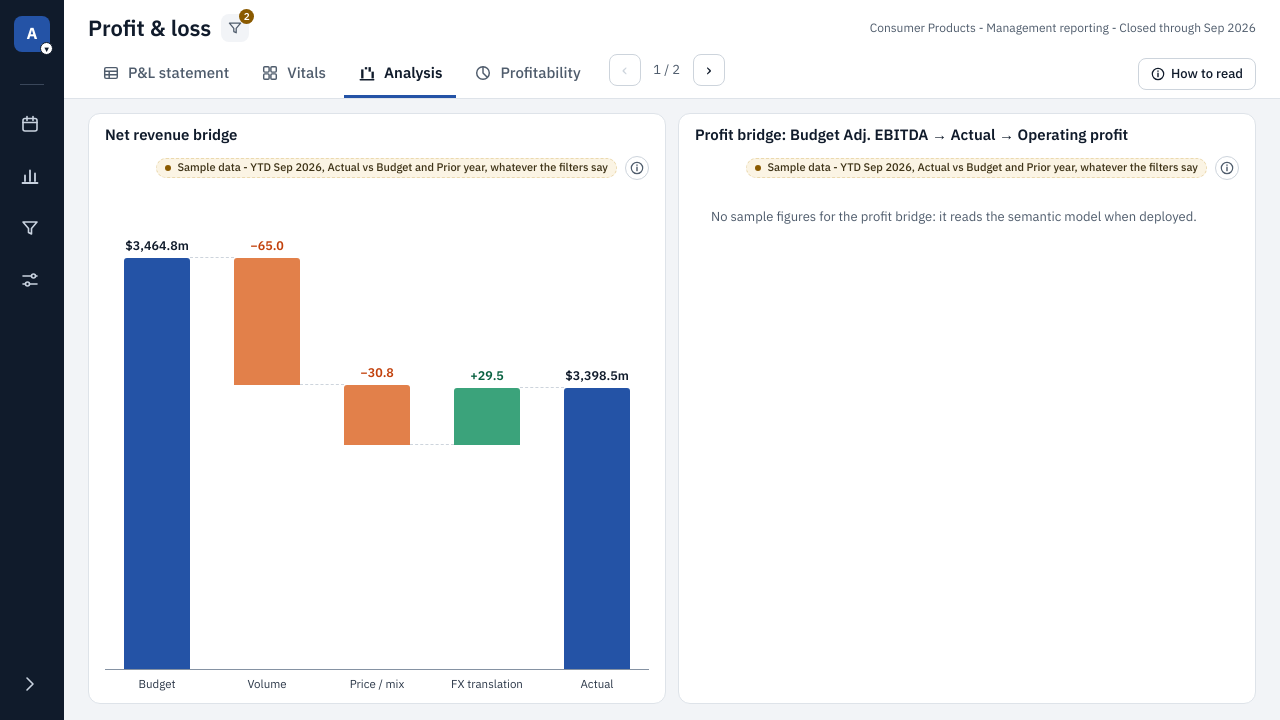
Test: sample mode › has no Analysis toolbar (parity rule 1); the sample bridge shows and the redesigned panels say they have no sample figures
Expected: the heading "Profit & loss" is shown, [88,14,211,42]
Expected: the heading "Net revenue bridge" is shown, [105,124,238,146]
Click the button named "Next page": point(709, 70) [693,54,725,86]
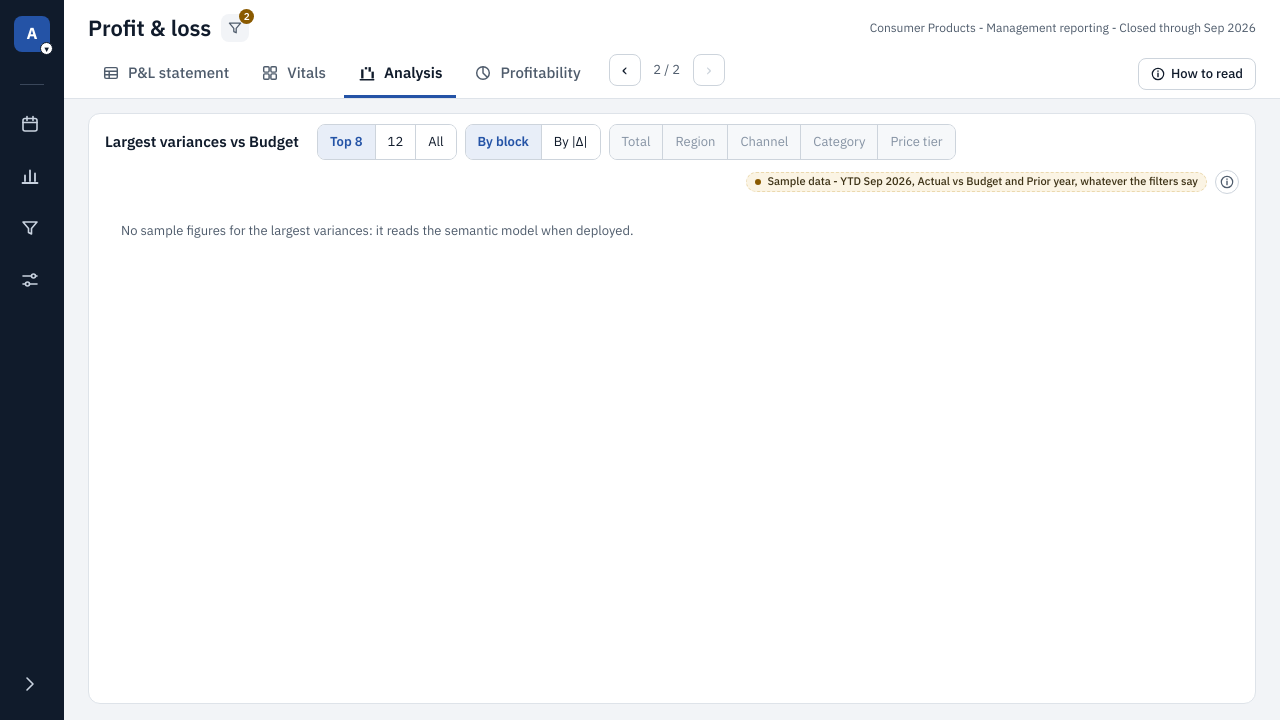
Expected: the heading "Largest variances vs Budget" is shown, [105,131,299,153]
Expected: the text with test id "sample-empty" shows "No sample figures for the largest variances", [121,222,634,239]
Expected: the button "Region" is disabled, [662,125,727,159]
